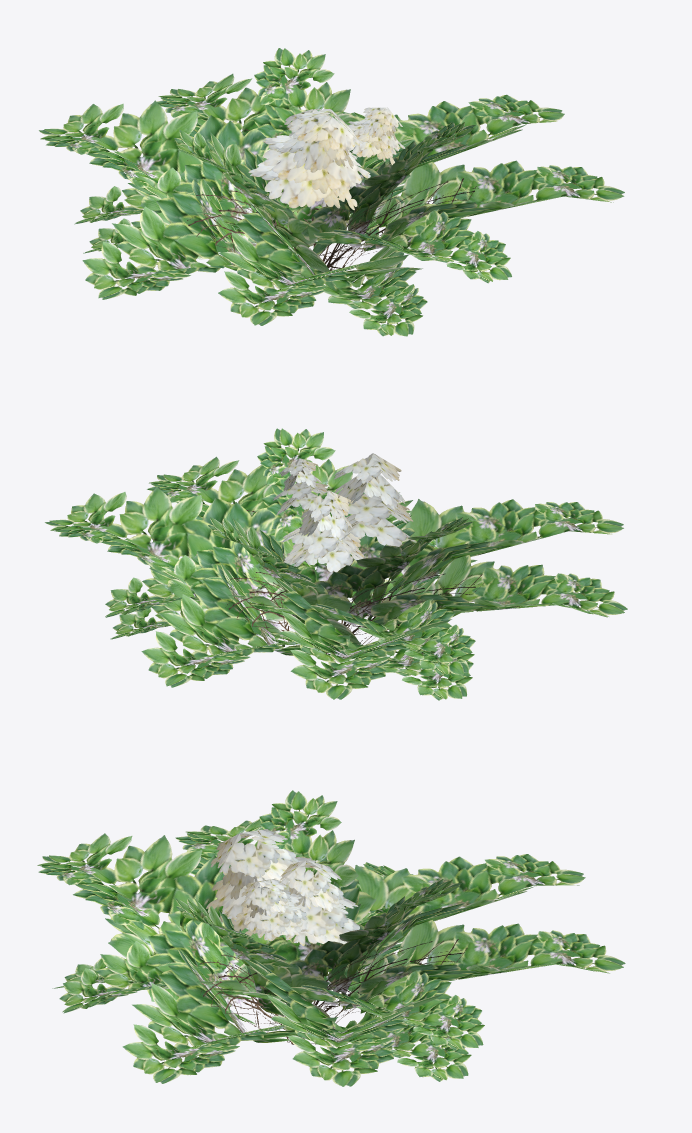
The model's file is lineG_LOD0.fbx.
3 renders of one model, top to bottom at view 1: azimuth 30°, elevation 25°; view 2: azimuth 150°, elevation 25°; view 3: azimuth 270°, elevation 25°, orthographic. The views are drawn at different scales.
Visible parts, largest first — view 1: Mesh Object; view 2: Mesh Object; view 3: Mesh Object.
Boxes of the visible parts, x1,y1,x2,y2 form: Mesh Object: (39,48,624,336); Mesh Object: (45,428,627,700); Mesh Object: (37,790,625,1086).
Size of the model in its own units: 2.32 by 0.7715 by 2.04.
